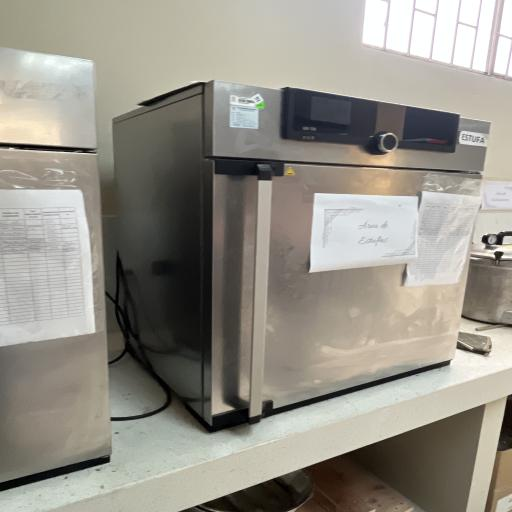Estufa_Memmert: (102, 70, 500, 432)
